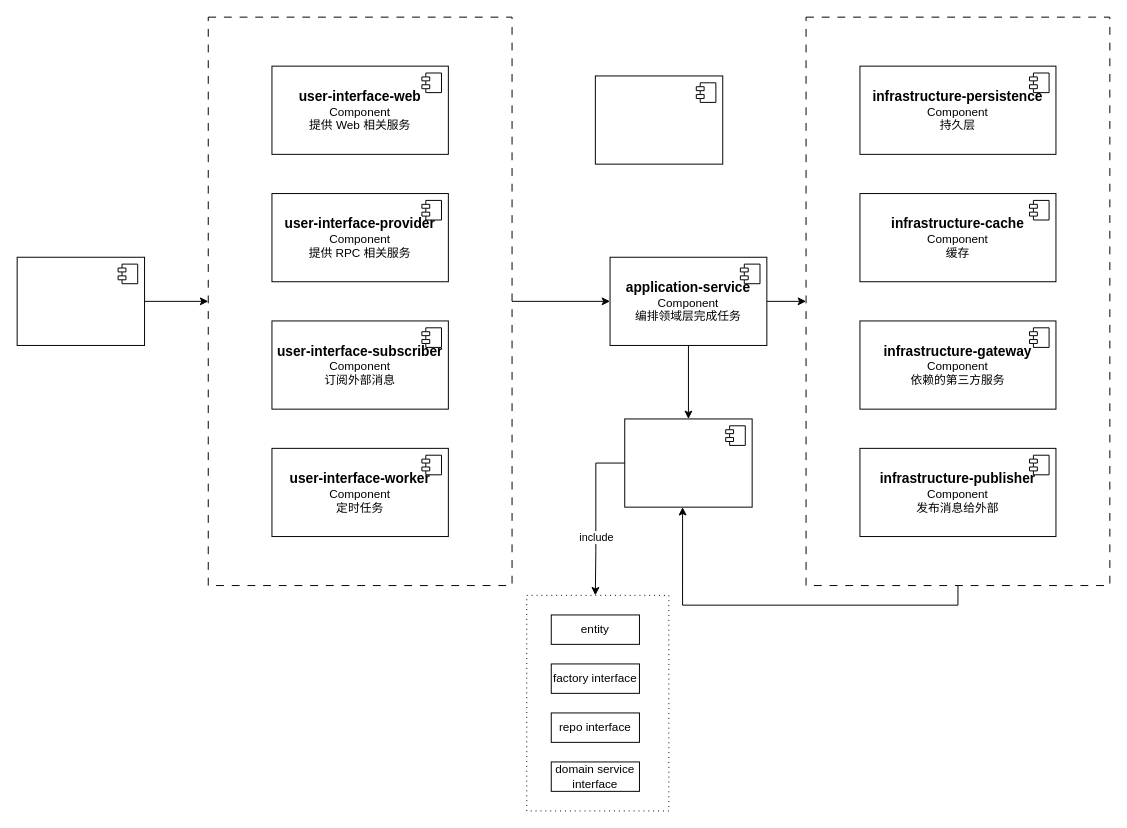
This 1127x828 diagram has some shape labels left out. Here are the shapes that lost their labels. From the top down, the centre of each, then its label:
the point at 658,119: common Component 通用业务无关组件
the point at 80,300: launcher Component
the point at 688,462: domain Component 业务逻辑的核心实现
